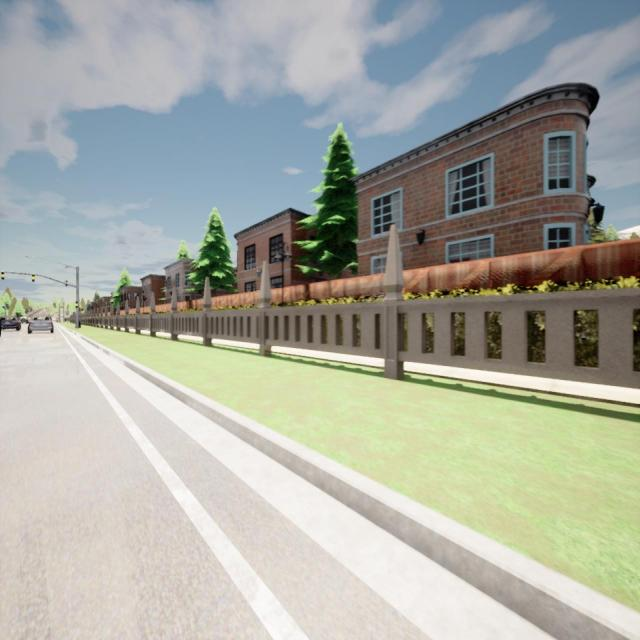Vehicle: (28, 315, 54, 334), (0, 315, 21, 331), (21, 318, 28, 324)
traffic_light: (32, 274, 35, 282), (75, 302, 78, 308), (2, 272, 4, 280)
